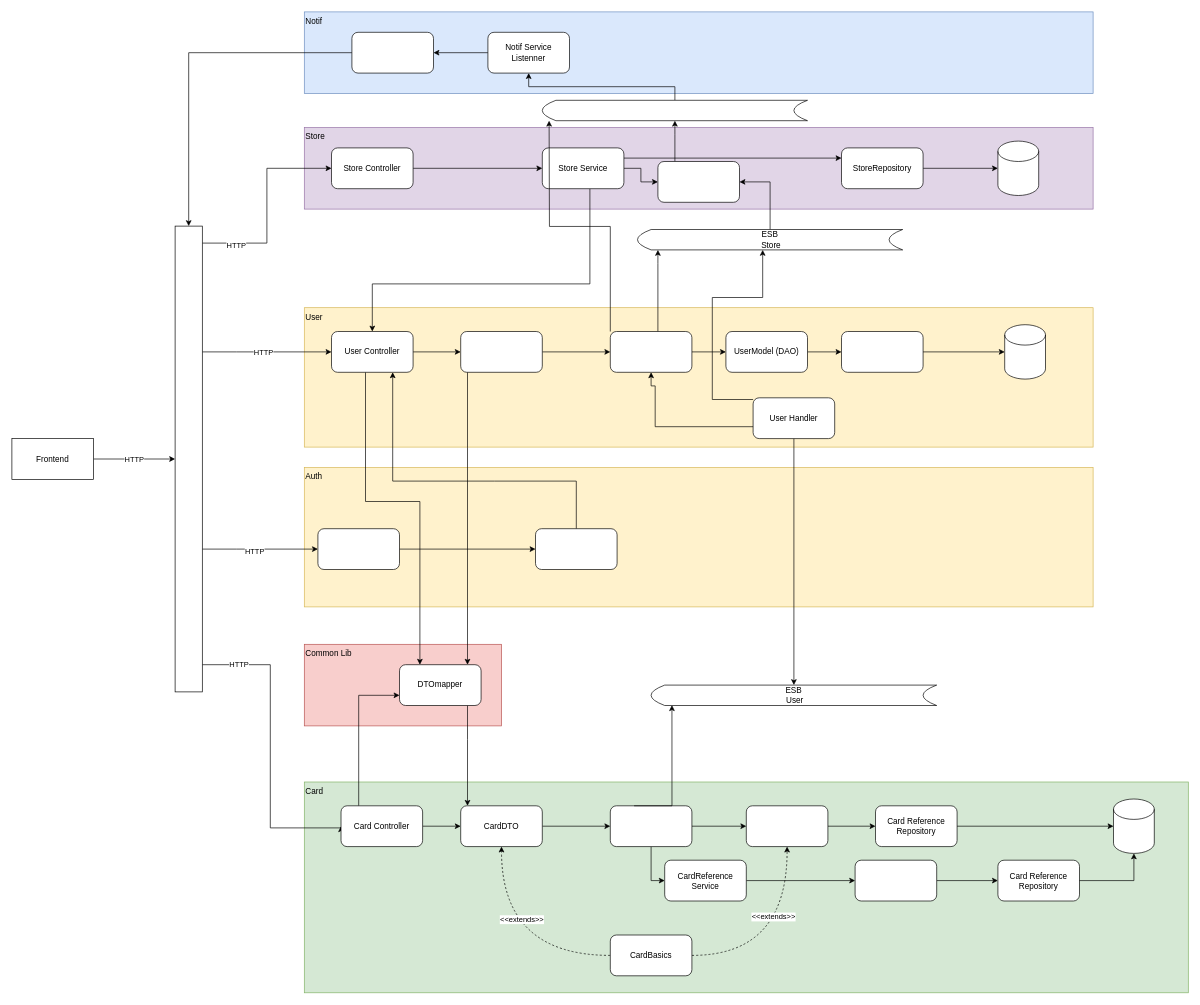
This 1200x1005 diagram has some shape labels left out. Here are the shapes that lost their labels. From the top down, the centre of each, then its label:
At (x=392, y=52): "Notif Service".
At (x=675, y=110): "ESB Notif".
At (x=698, y=181): "Store Handler".
At (x=501, y=351): "UserDTO".
At (x=651, y=351): "User Service".
At (x=882, y=351): "UserRepository".
At (x=188, y=458): "Proxy".
At (x=358, y=549): "Auth Controller".
At (x=576, y=549): "Auth Service".
At (x=651, y=826): "CardModel Service".
At (x=787, y=826): "Card Model (DAO)".
At (x=895, y=880): "Card Reference (DAO)".
